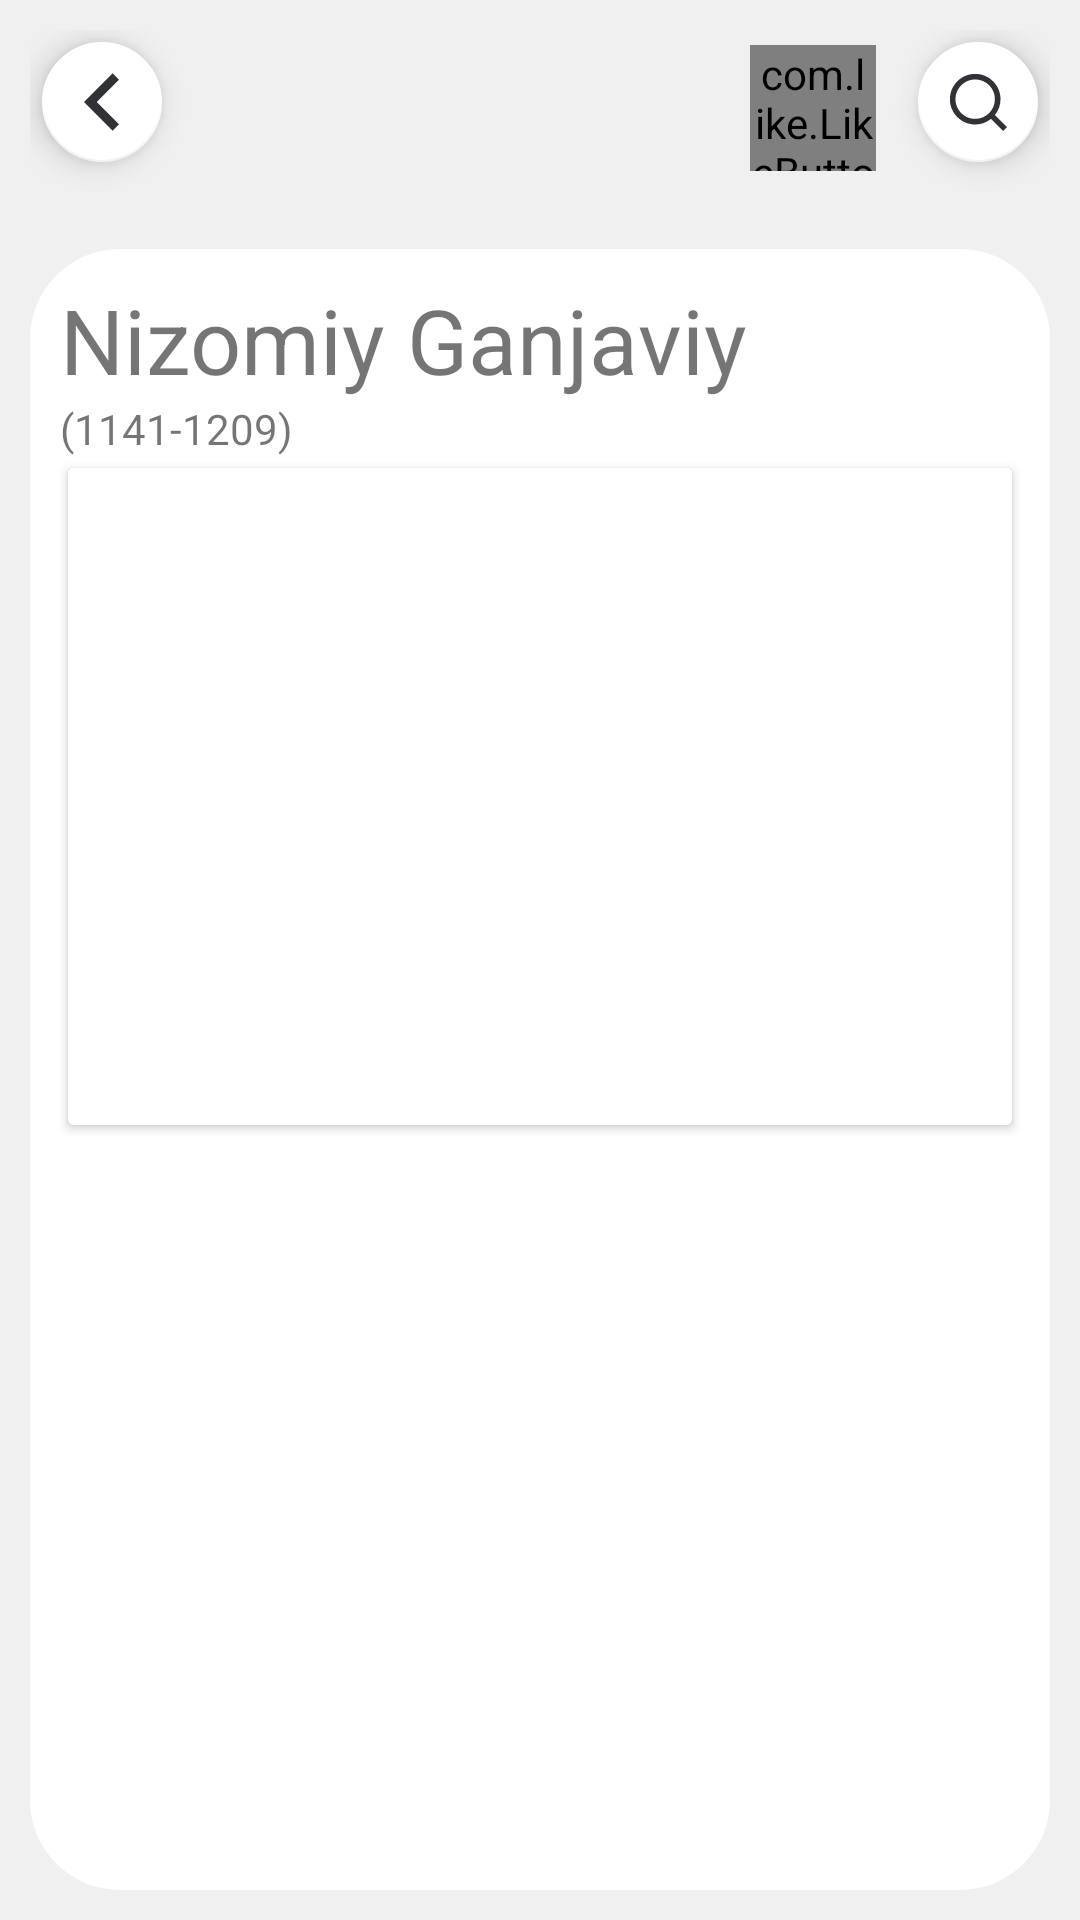

Named icons in this screenshot (1080 × 1920) and their bounding boxes, (x1, y1, x2, y2):
back: (32, 37, 165, 169)
search figma: (915, 37, 1048, 169)
